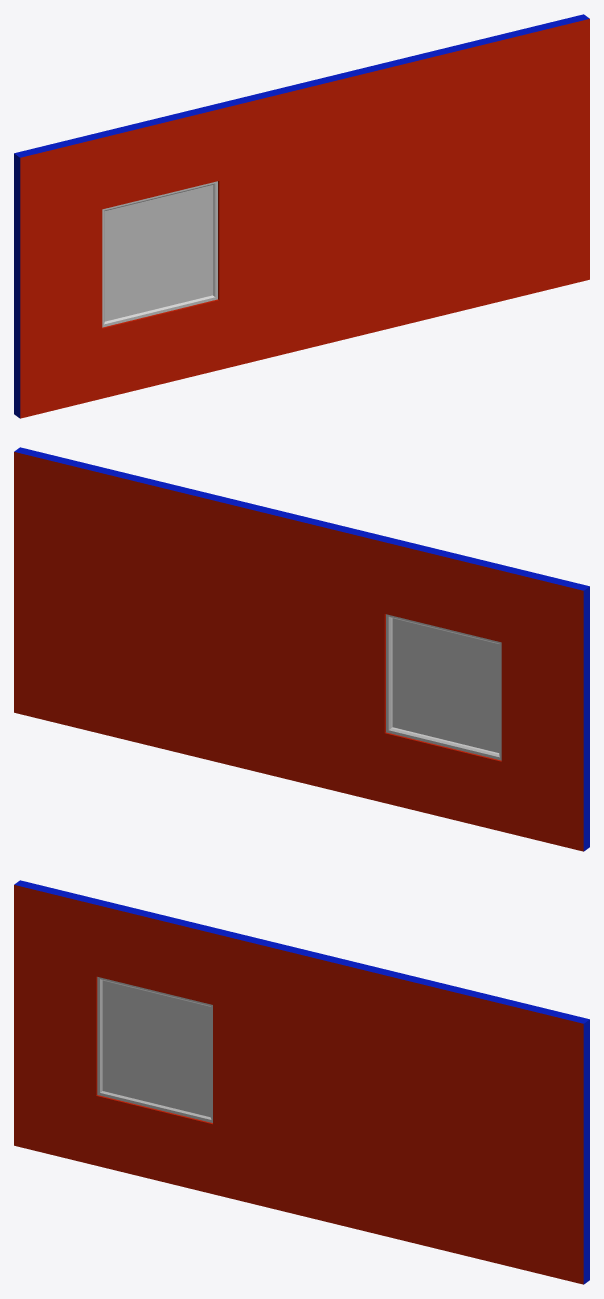
File: wall(window).fbx
3 views of the same model, one above another, from view 1: azimuth 30°, elevation 25°; view 2: azimuth 150°, elevation 25°; view 3: azimuth 330°, elevation 25° (orthographic).
Visible parts, largest first — view 1: Wall, Window, Frame; view 2: Wall, Window, Frame; view 3: Wall, Window, Frame.
Boxes of the visible parts, x1,y1,x2,y2 form: Wall: (14, 14, 589, 418); Window: (104, 185, 212, 321); Frame: (102, 181, 217, 327); Wall: (14, 447, 589, 851); Window: (392, 618, 499, 752); Frame: (386, 614, 501, 760); Wall: (14, 880, 589, 1284); Window: (102, 980, 210, 1117); Frame: (97, 977, 212, 1122).
Size of the model in its own units: 800 by 350 by 15.
